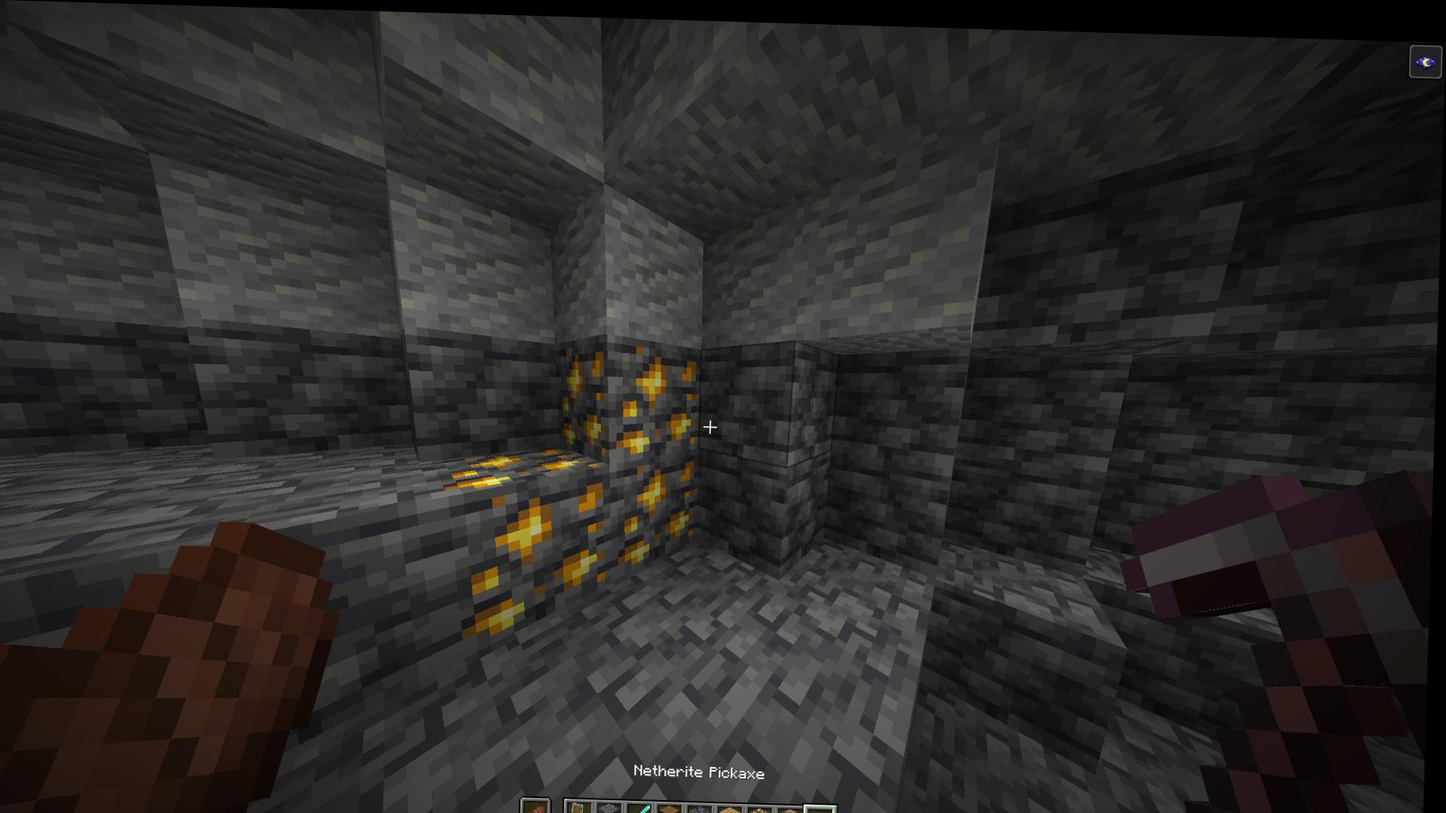gold ore: (472, 477, 607, 631), (605, 337, 705, 448), (615, 451, 709, 568), (443, 440, 606, 486), (560, 343, 614, 453)
